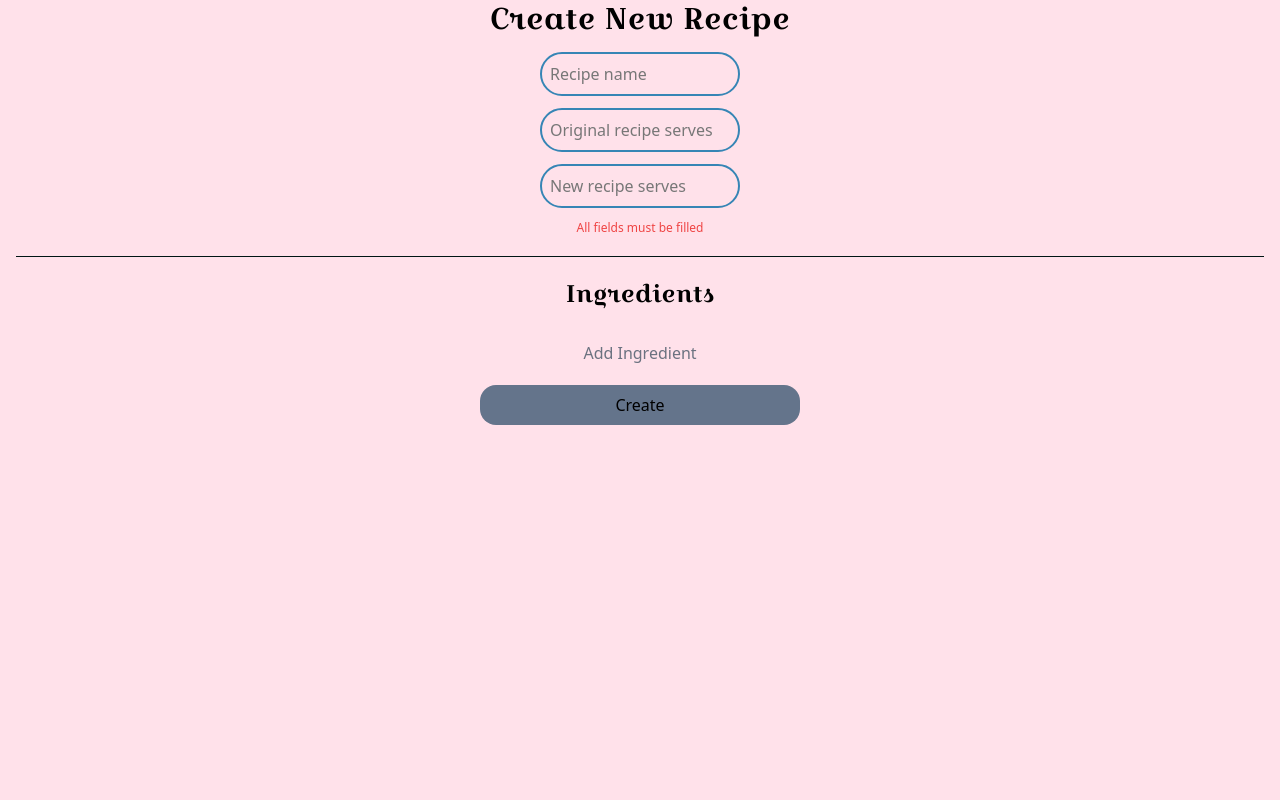
it: New Recipe › Adding an ingredient button should open a modal
The image size is (1280, 800).
In the field with placeholder "Recipe name": [640, 74] box [540,52,740,96], type "1"
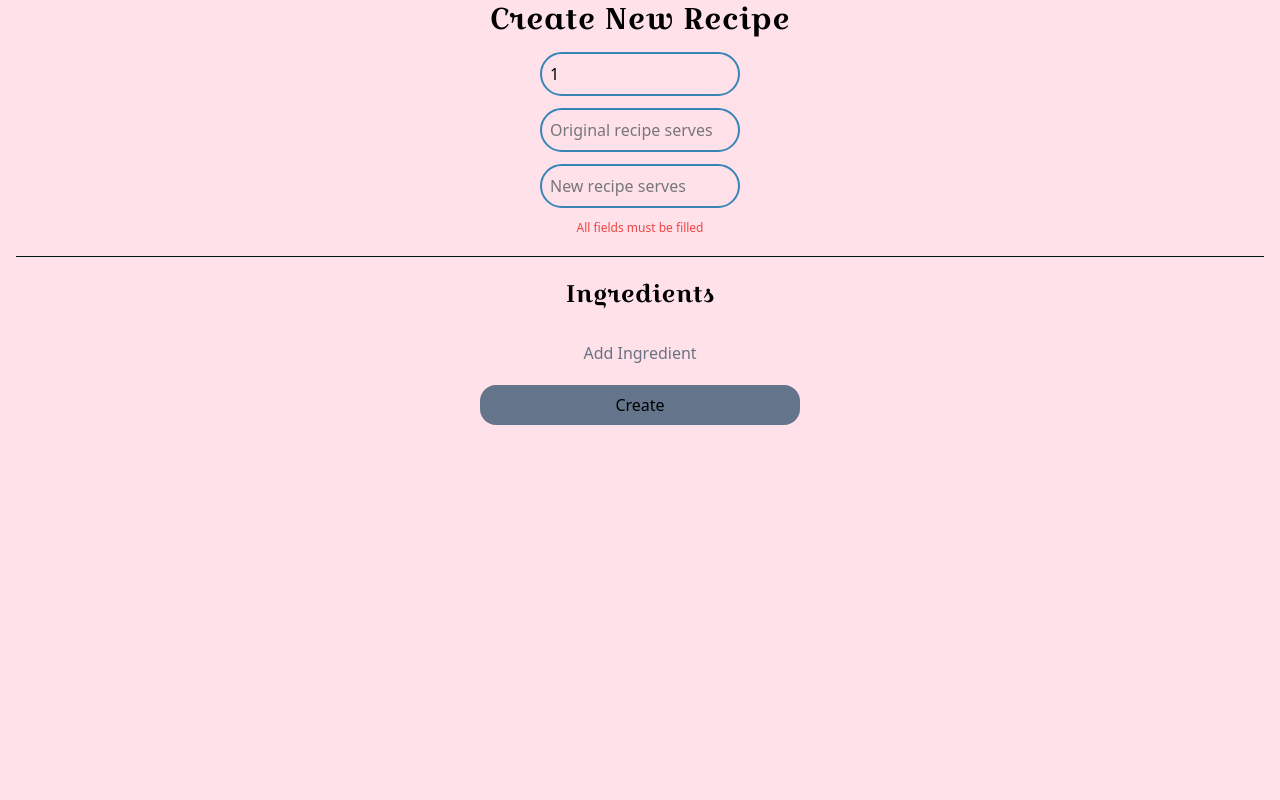
In the field with placeholder "Original recipe serves": [640, 130] box [540,108,740,152], type "1"
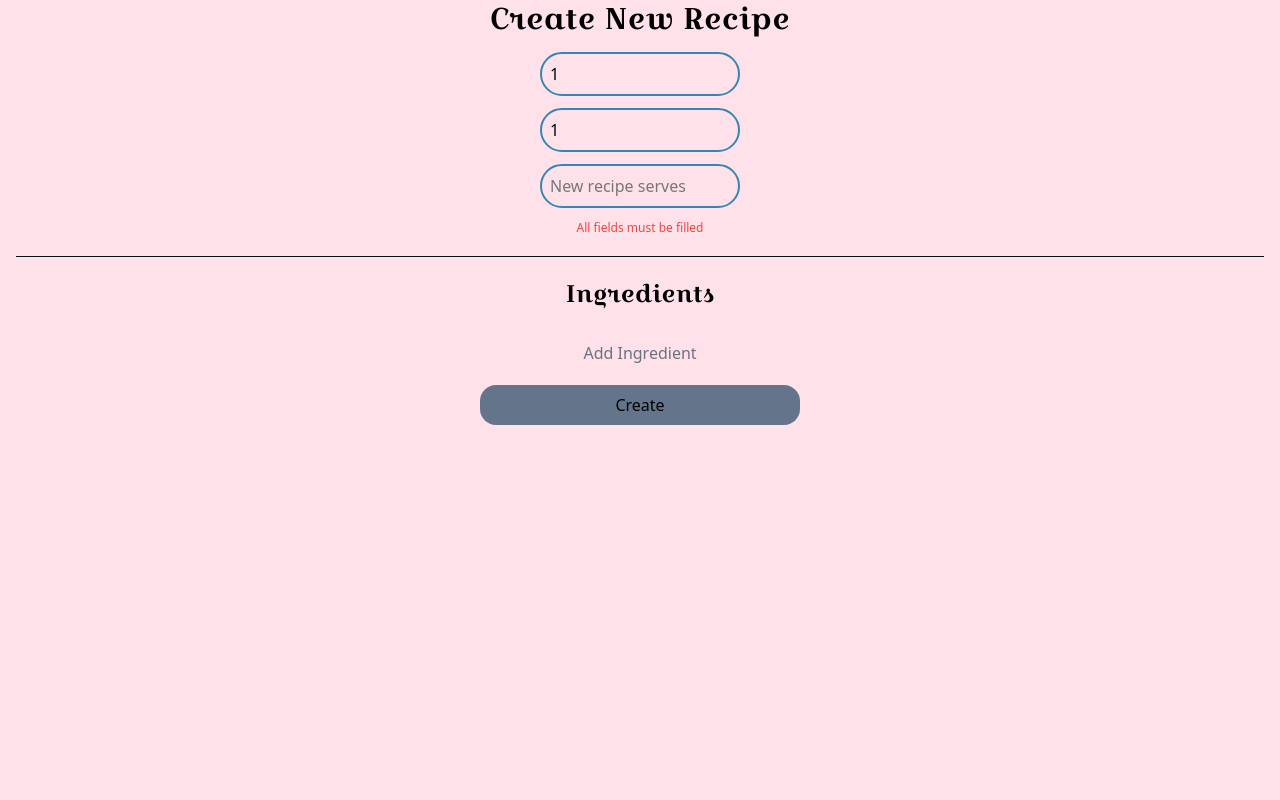
In the field with placeholder "New recipe serves": [640, 186] box [540,164,740,208], type "1"
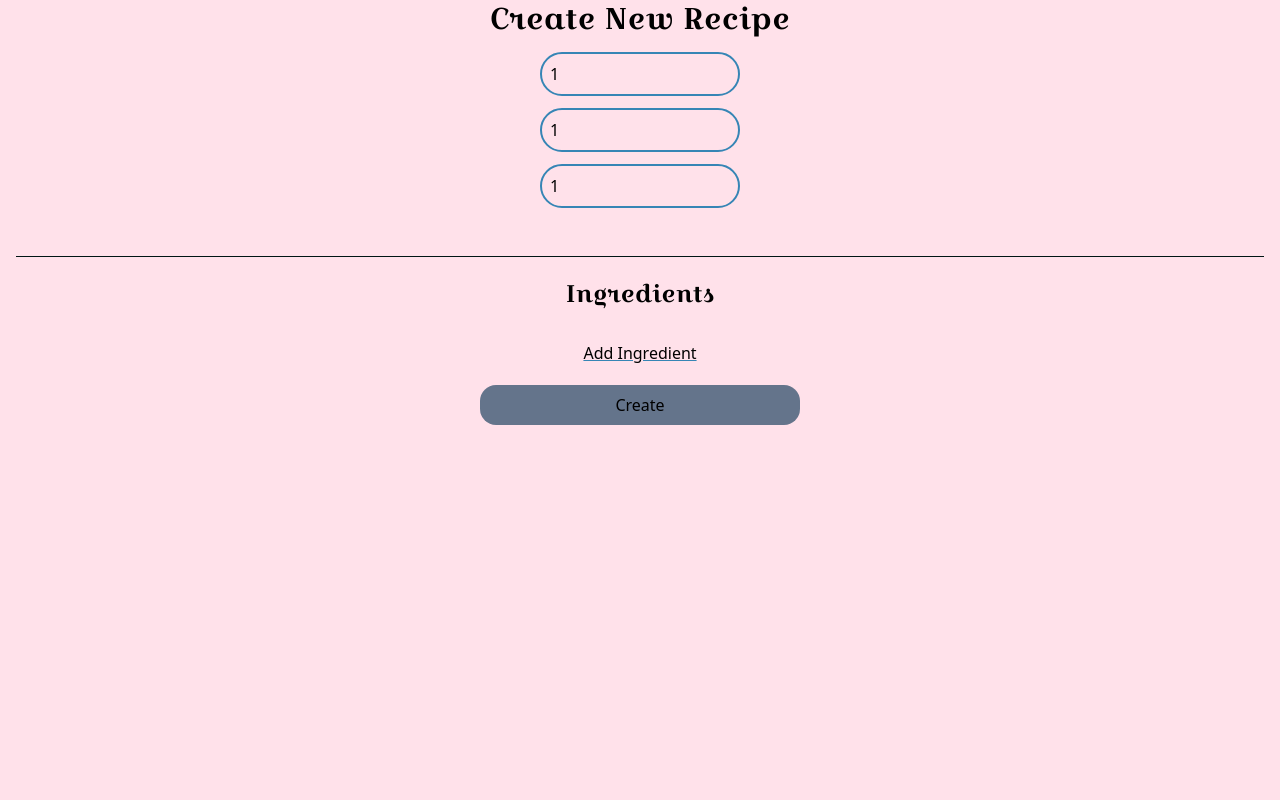
Click the button "Add Ingredient": [640, 353] box [583,341,697,365]
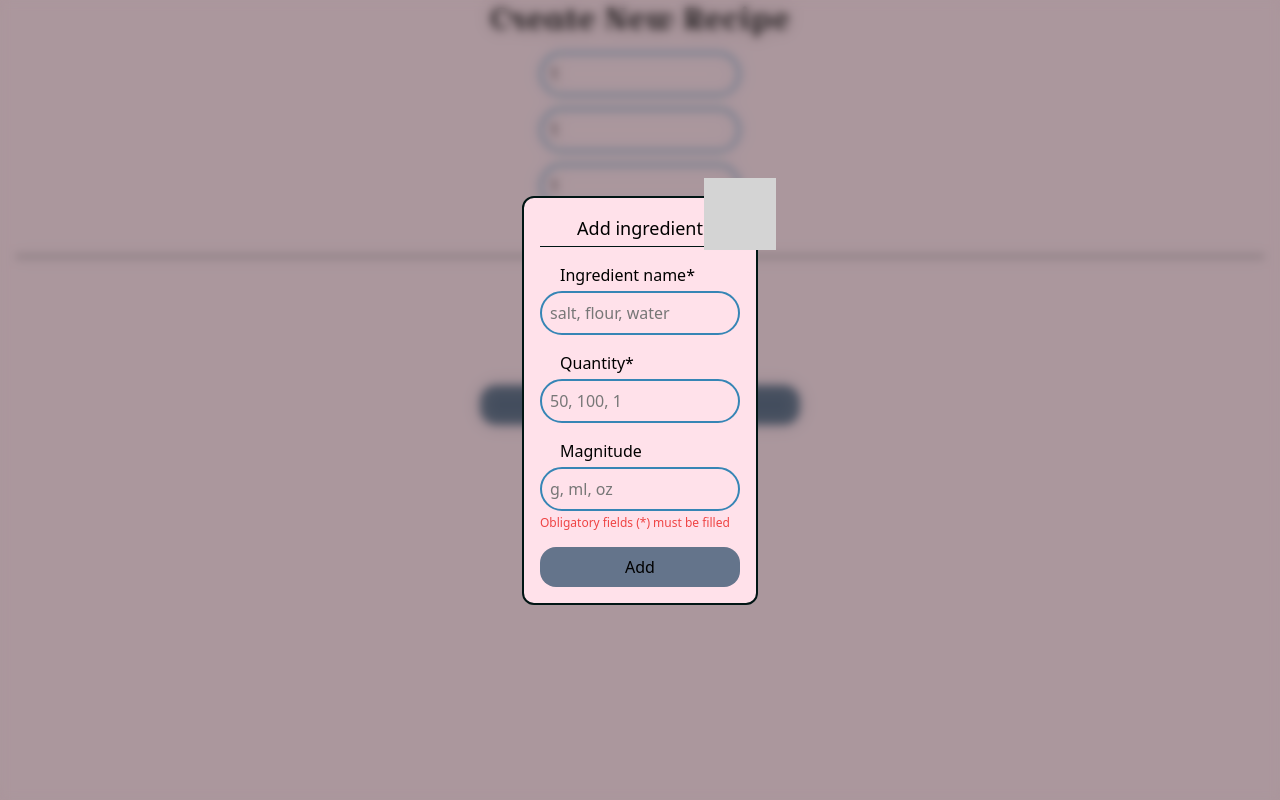
Expected: the field labelled "Quantity*" is shown, [540,378,740,422]
